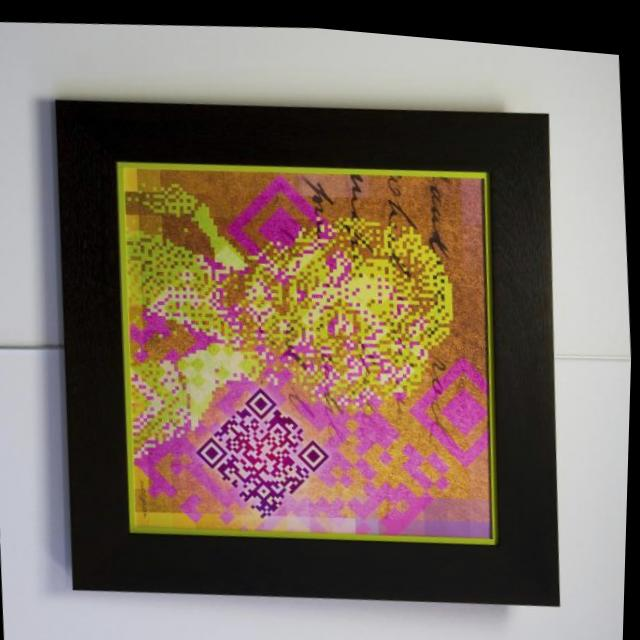qrcode: (192, 374, 338, 526)
